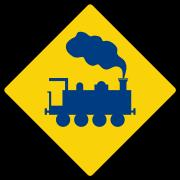Barrier Ahead: (14, 13, 168, 166)
